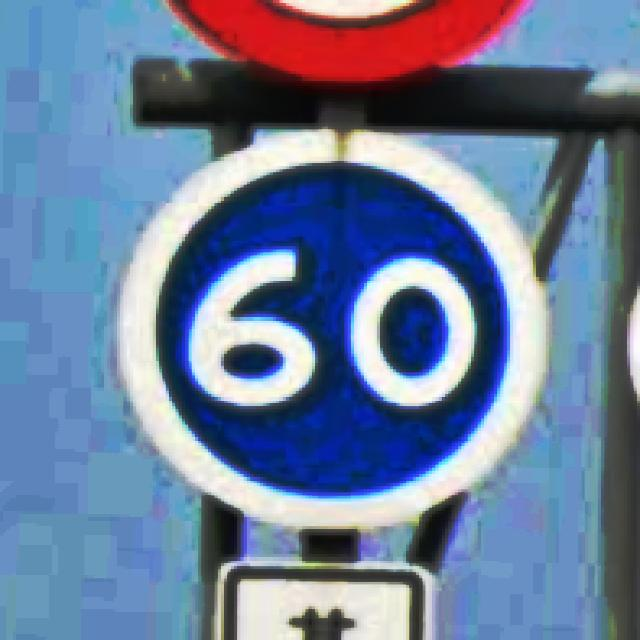min60: (114, 123, 549, 526)
